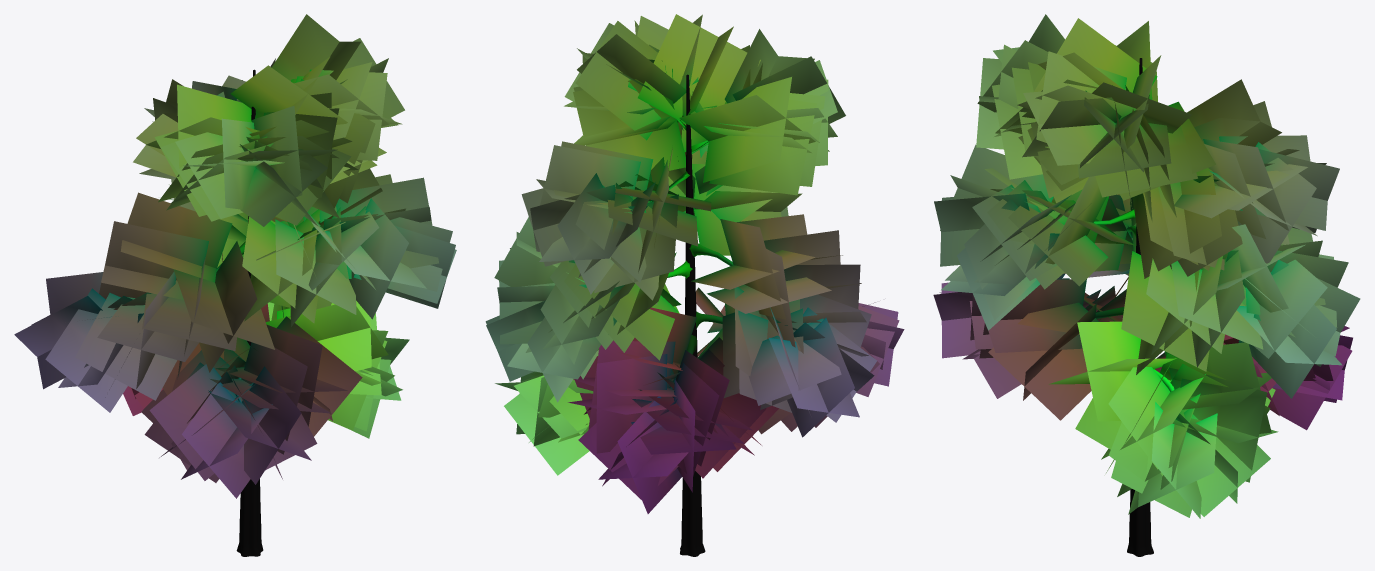
Rendered from URP_P14_Tree_2_LOD_0.fbx.
The picture shows the model from 3 angles, left to right: view 1: azimuth 30°, elevation 25°; view 2: azimuth 150°, elevation 25°; view 3: azimuth 270°, elevation 25°; orthographic projection. The views are drawn at different scales.
Visible parts, largest first — view 1: Tree_2_LOD_0; view 2: Tree_2_LOD_0; view 3: Tree_2_LOD_0.
Boxes of the visible parts, x1=… form: Tree_2_LOD_0: x1=14, y1=14, x2=456, y2=556; Tree_2_LOD_0: x1=485, y1=14, x2=904, y2=556; Tree_2_LOD_0: x1=933, y1=14, x2=1360, y2=556.
Bounding box in the file's own units: 414 × 557 × 407.
